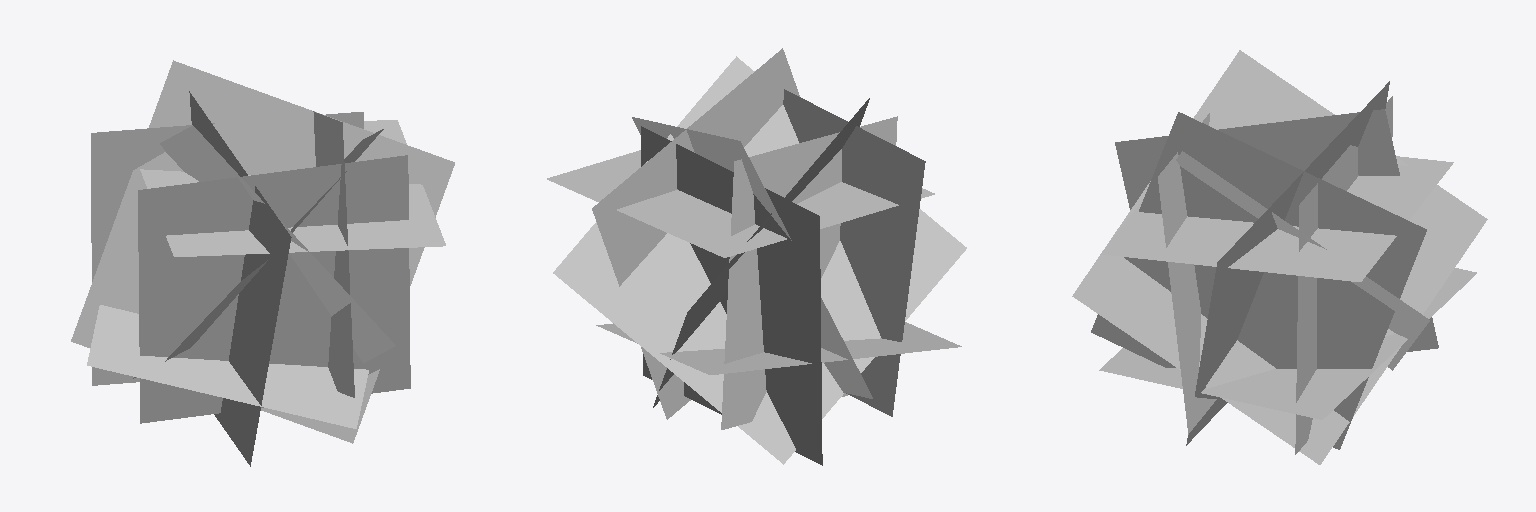
Rendered from spruce_leaves_2.obj.
3 views of the same model, side by side, from view 1: azimuth 30°, elevation 25°; view 2: azimuth 150°, elevation 25°; view 3: azimuth 270°, elevation 25° (orthographic).
Parts seen in each view (by area): view 1: south, east, west, bottom, top, north; view 2: west, south, north, east, top, bottom; view 3: east, south, top, west, bottom, north.
Part boxes in pixels (bbox=[...]): south: bbox=[138, 126, 410, 423]; east: bbox=[71, 60, 454, 443]; west: bbox=[133, 91, 383, 466]; bottom: bbox=[87, 305, 368, 428]; top: bbox=[140, 120, 445, 256]; north: bbox=[91, 112, 363, 385]; west: bbox=[553, 56, 966, 464]; south: bbox=[653, 89, 925, 416]; north: bbox=[641, 126, 822, 465]; east: bbox=[592, 48, 872, 419]; top: bbox=[547, 150, 934, 257]; bottom: bbox=[596, 322, 961, 374]; east: bbox=[1091, 81, 1426, 449]; south: bbox=[1072, 50, 1487, 464]; top: bbox=[1101, 156, 1453, 281]; west: bbox=[1115, 109, 1438, 370]; bottom: bbox=[1099, 268, 1476, 419]; north: bbox=[1295, 96, 1392, 454].
Size of the model in its own units: 2.27 by 1.98 by 2.25.